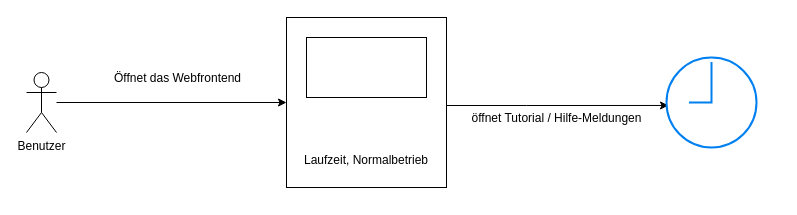
Image size: 797x215. Some labels were removed from this diagram. Each missing label, with the centre of its shape:
"Frontend" belongs at [366,67].
"Neue Nutzer haben einen guten Einstieg in der Software" belongs at [711,102].
